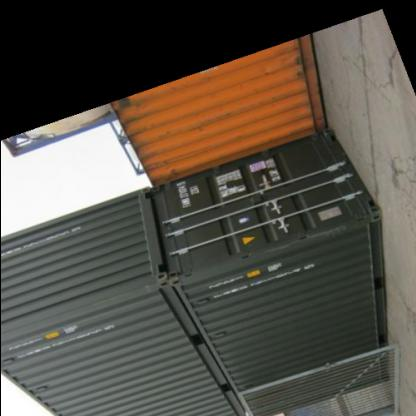Damage: (261, 224, 345, 254), (90, 286, 160, 308)
